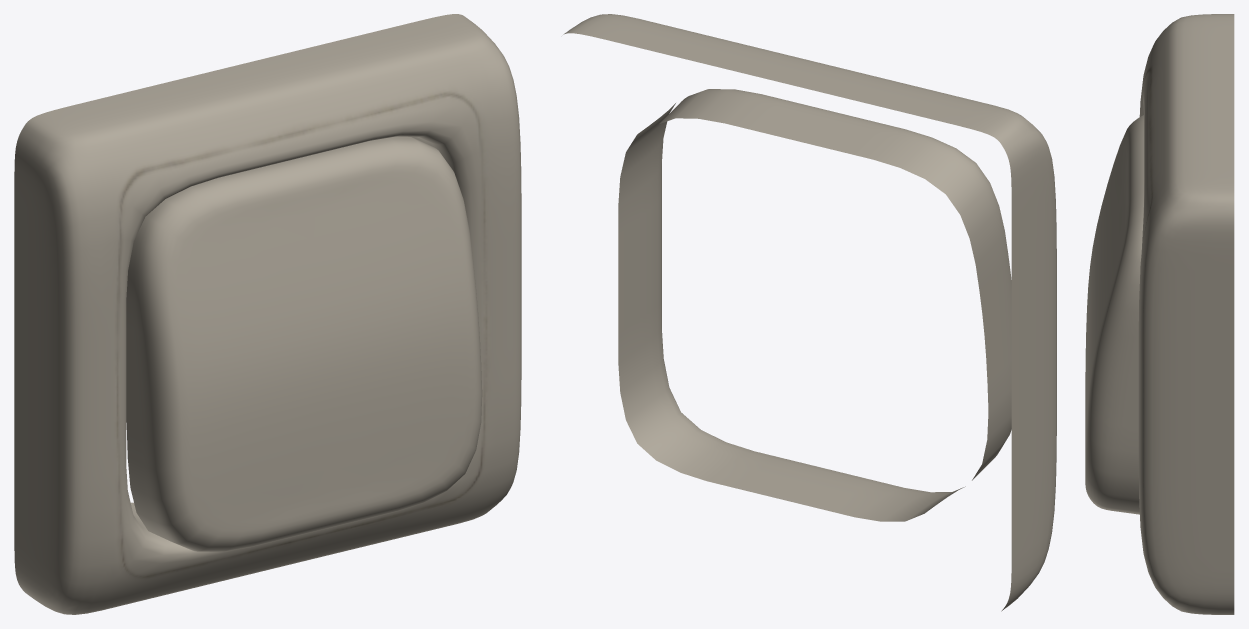
Rendered from light_switch.glb.
3 views of the same model, side by side, from view 1: azimuth 30°, elevation 25°; view 2: azimuth 150°, elevation 25°; view 3: azimuth 270°, elevation 25° (orthographic). The views are drawn at different scales.
Parts seen in each view (by area): view 1: Object_2; view 2: Object_2; view 3: Object_2.
Part boxes in pixels (x1,y1,x2,y2): Object_2: (14,14,521,614); Object_2: (563,14,1056,611); Object_2: (1085,14,1234,614).
Size of the model in its own units: 52 by 52 by 16.64.
1 material, 1 textured.
